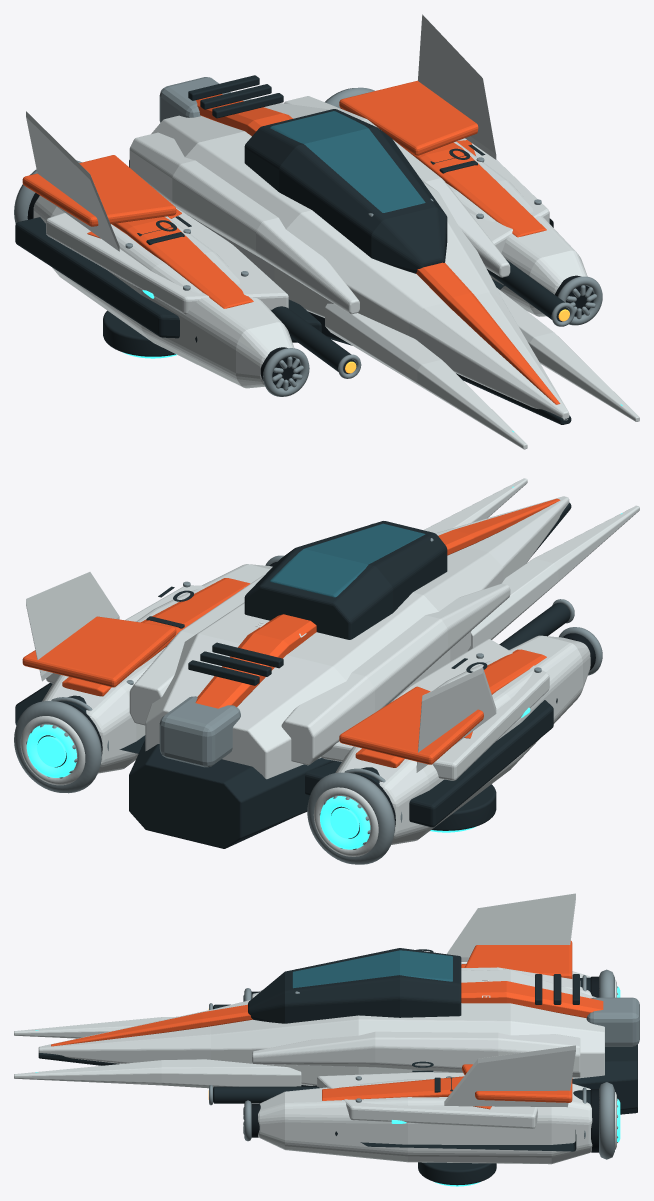
File: needle.glb
3 renders of one model, top to bottom at view 1: azimuth 30°, elevation 25°; view 2: azimuth 150°, elevation 25°; view 3: azimuth 270°, elevation 25°, orthographic. The views are drawn at different scales.
Visible parts, largest first — view 1: Ceramic_Paint, Carbon_Composite, Livery_Paint, Canopy_Glass, Titanium, Airbrake_R, Airbrake_L, Recesses; view 2: Ceramic_Paint, Carbon_Composite, Titanium, Livery_Paint, Airbrake_R, Canopy_Glass, Airbrake_L, Ion_Emission, Recesses; view 3: Ceramic_Paint, Carbon_Composite, Livery_Paint, Titanium, Canopy_Glass, Airbrake_L, Airbrake_R, Recesses.
Part boxes in pixels (x1,y1,x2,y2): Ceramic_Paint: [26, 14, 639, 449]; Carbon_Composite: [15, 75, 571, 424]; Livery_Paint: [87, 94, 560, 404]; Canopy_Glass: [270, 111, 425, 212]; Titanium: [14, 77, 602, 396]; Airbrake_R: [339, 80, 478, 155]; Airbrake_L: [22, 155, 176, 226]; Recesses: [27, 108, 593, 388]; Ceramic_Paint: [20, 478, 639, 856]; Carbon_Composite: [15, 502, 571, 848]; Titanium: [14, 523, 602, 864]; Livery_Paint: [62, 498, 560, 767]; Airbrake_R: [22, 616, 176, 687]; Canopy_Glass: [270, 523, 425, 597]; Airbrake_L: [339, 686, 483, 764]; Ion_Emission: [26, 486, 622, 849]; Recesses: [65, 562, 595, 826]; Ceramic_Paint: [14, 893, 616, 1164]; Carbon_Composite: [38, 948, 637, 1185]; Livery_Paint: [51, 964, 603, 1109]; Titanium: [209, 969, 639, 1159]; Canopy_Glass: [292, 950, 452, 988]; Airbrake_L: [464, 941, 572, 978]; Airbrake_R: [462, 1064, 572, 1102]; Recesses: [251, 976, 598, 1152].
Size of the model in its own units: 4.64 by 2.09 by 7.63.
